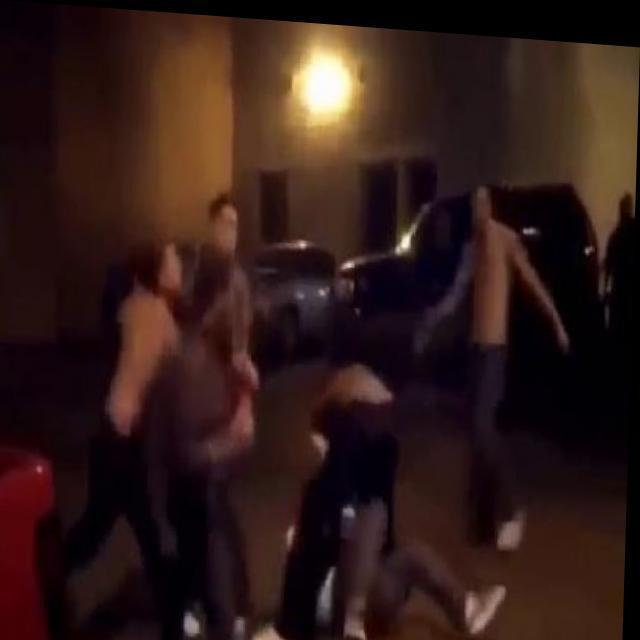fight: (262, 349, 514, 640), (99, 225, 262, 523)
